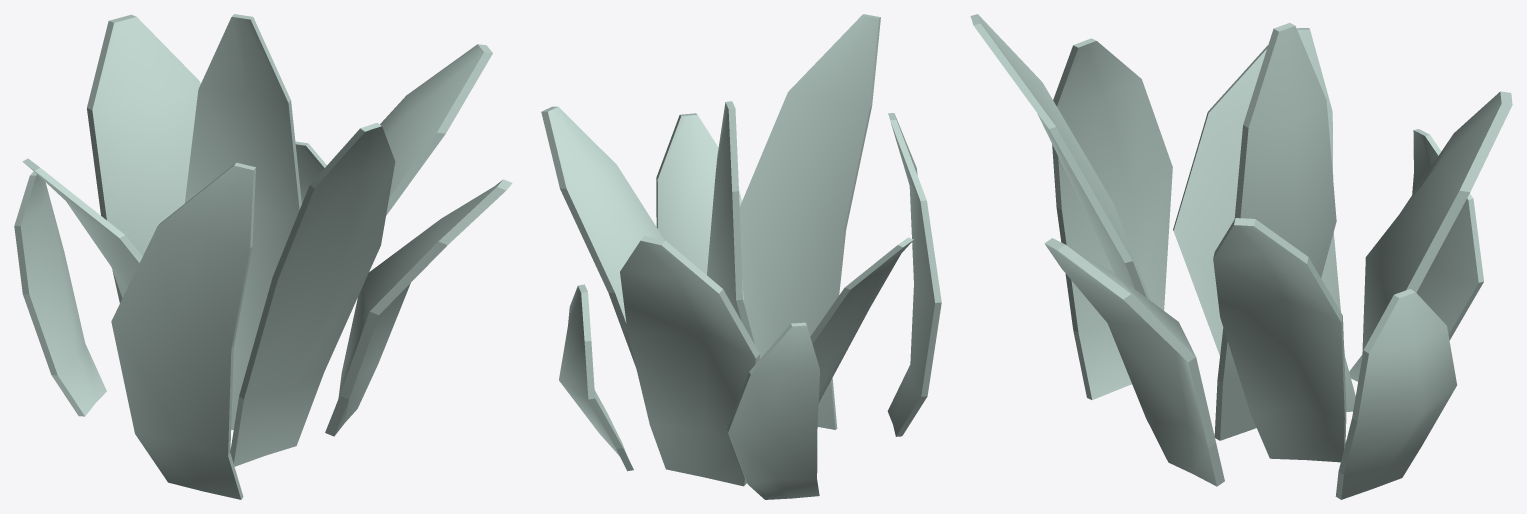
File: a_z1_grass_s.fbx
The picture shows the model from 3 angles, left to right: view 1: azimuth 30°, elevation 25°; view 2: azimuth 150°, elevation 25°; view 3: azimuth 270°, elevation 25°; orthographic projection. The views are drawn at different scales.
Visible parts, largest first — view 1: a_z1_grass_s; view 2: a_z1_grass_s; view 3: a_z1_grass_s.
Boxes of the visible parts, x1,y1,x2,y2 form: a_z1_grass_s: [14, 14, 512, 499]; a_z1_grass_s: [541, 14, 941, 499]; a_z1_grass_s: [970, 14, 1512, 499].
Bounding box in the file's own units: 39.24 × 33.71 × 39.36.
